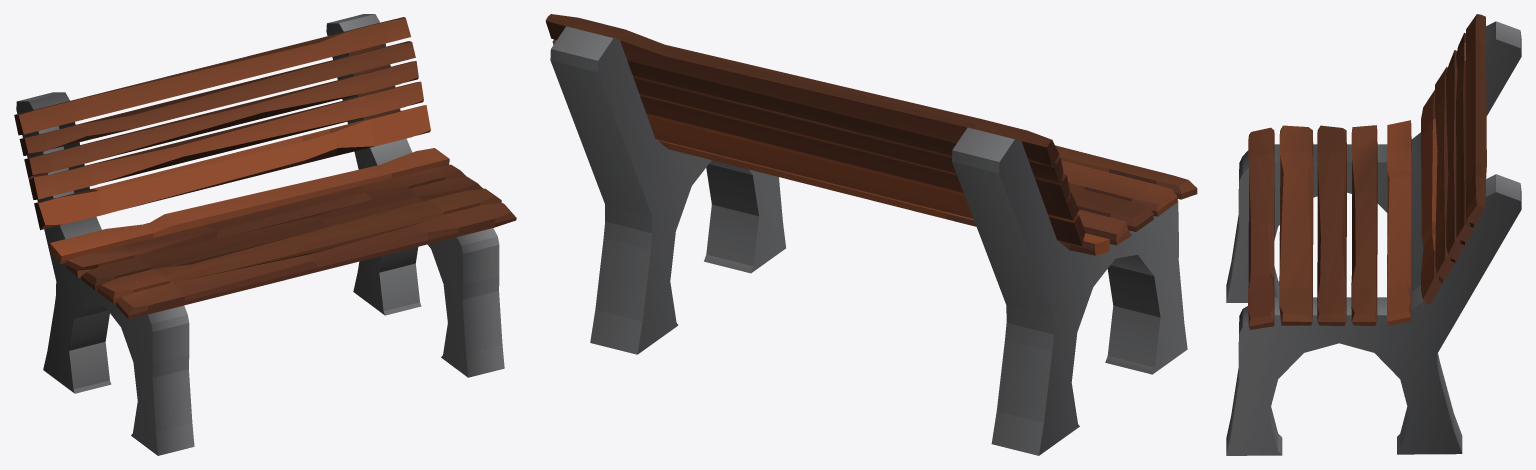
Rendered from bench.fbx.
3 views of the same model, side by side, from view 1: azimuth 30°, elevation 25°; view 2: azimuth 150°, elevation 25°; view 3: azimuth 270°, elevation 25° (orthographic). The views are drawn at different scales.
Parts seen in each view (by area): view 1: Circle; view 2: Circle; view 3: Circle.
Boxes of the visible parts, left/top/right/bottom form: Circle: left=14, top=14, right=516, bottom=455; Circle: left=545, top=14, right=1197, bottom=455; Circle: left=1226, top=14, right=1521, bottom=455.
Size of the model in its own units: 462 by 295 by 295.
